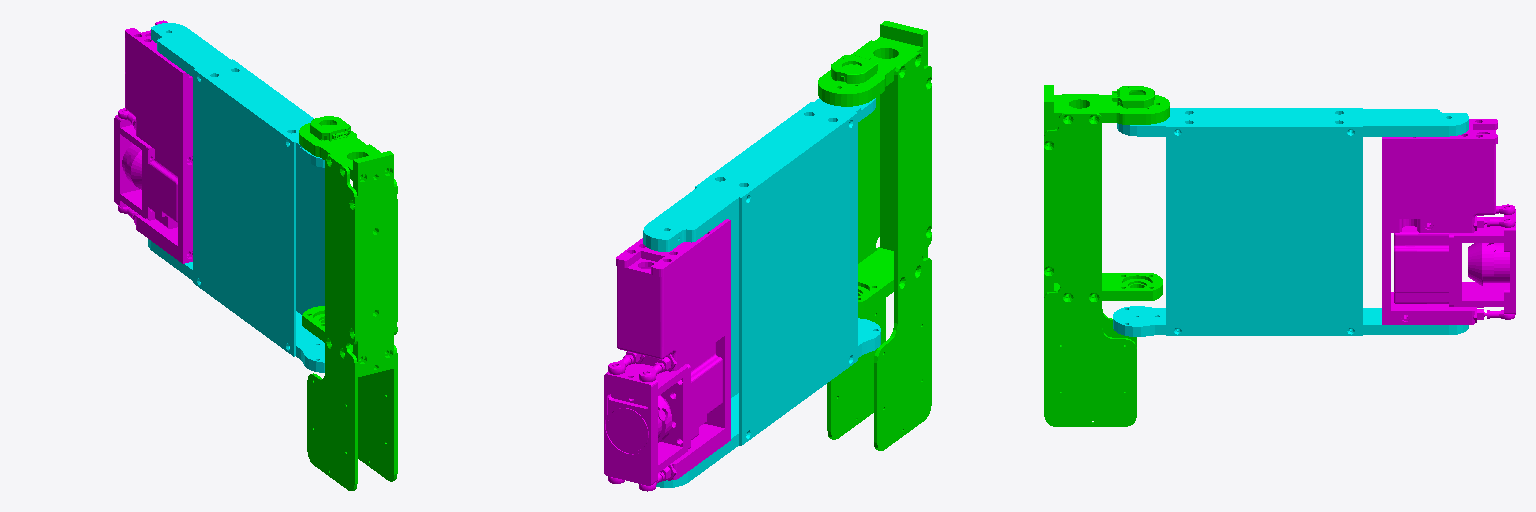
URDF robot description (hand):
<?xml version="1.0" ?>
<robot name="hand">

  <!-- ============ hand_link_base (root) ============ -->
  <link name="hand_link_base">
    <inertial>
      <origin xyz="1.3401999999999999E-06 31.313 -28.611" rpy="0 0 0"/>
      <mass value="0.58902"/>
      <inertia ixx="0.0028073" ixy="-2.209E-12" ixz="1.4526E-11" iyy="0.0026158" iyz="0.00013375" izz="0.00026433"/>
    </inertial>
    <visual>
      <origin xyz="0 0 0" rpy="0 0 0"/>
      <geometry>
        <mesh filename="Hand\meshes/visual/hand_link_base.STL"/>
      </geometry>
      <material name="">
        <color rgba="0 1 0 1"/>
      </material>
    </visual>
    <collision>
      <origin xyz="0 0 0" rpy="0 0 0"/>
      <geometry>
        <mesh filename="Hand\meshes/collision/hand_link_base.STL"/>
      </geometry>
    </collision>
  </link>

  <!-- ============ hand_link_1 ============ -->
  <link name="hand_link_1">
    <inertial>
      <origin xyz="0.078245 123.00999999999999 -17.902" rpy="0 0 0"/>
      <mass value="0.9156"/>
      <inertia ixx="0.0061229" ixy="-3.976E-06" ixz="-8.986E-08" iyy="0.0012773" iyz="-1.541E-06" izz="0.0049578"/>
    </inertial>
    <visual>
      <origin xyz="0 0 0" rpy="0 0 0"/>
      <geometry>
        <mesh filename="Hand\meshes/visual/hand_link_1.STL"/>
      </geometry>
      <material name="">
        <color rgba="0 1 1 1"/>
      </material>
    </visual>
    <collision>
      <origin xyz="0 0 0" rpy="0 0 0"/>
      <geometry>
        <mesh filename="Hand\meshes/collision/hand_link_1.STL"/>
      </geometry>
    </collision>
  </link>

  <joint name="hand_link_base_to_hand_link_1" type="revolute">
    <origin xyz="0 80.5 0" rpy="0 0 0"/>
    <parent link="hand_link_base"/>
    <child link="hand_link_1"/>
    <axis xyz="0 0 1"/>
    <limit lower="-1.5707" upper="1.5707" effort="0" velocity="0"/>
  </joint>

  <!-- ============ hand_link_2 ============ -->
  <link name="hand_link_2">
    <inertial>
      <origin xyz="-0.20099 -17.898 -22.892" rpy="0 0 0"/>
      <mass value="0.51508"/>
      <inertia ixx="0.00066677" ixy="-1.2886E-06" ixz="2.8391E-07" iyy="0.00054582" iyz="2.8064E-06" izz="0.00026757"/>
    </inertial>
    <visual>
      <origin xyz="0 0 0" rpy="0 0 0"/>
      <geometry>
        <mesh filename="Hand\meshes/visual/hand_link_2.STL"/>
      </geometry>
      <material name="">
        <color rgba="1 0 1 1"/>
      </material>
    </visual>
    <collision>
      <origin xyz="0 0 0" rpy="0 0 0"/>
      <geometry>
        <mesh filename="Hand\meshes/collision/hand_link_2.STL"/>
      </geometry>
    </collision>
  </link>

  <joint name="hand_link_1_to_hand_link_2" type="revolute">
    <origin xyz="0 270 0" rpy="0 0 0"/>
    <parent link="hand_link_1"/>
    <child link="hand_link_2"/>
    <axis xyz="0 0 1"/>
    <limit lower="-1.5707" upper="1.5707" effort="0" velocity="0"/>
  </joint>

  <!-- ============ tool_rotate ============ -->
  <link name="tool_rotate">
    <inertial>
      <origin xyz="-0.47146 66.03699999999999 1.2923" rpy="0 0 0"/>
      <mass value="0.013164"/>
      <inertia ixx="1.5074E-06" ixy="4.0748E-08" ixz="-5.9309E-08" iyy="2.5506E-06" iyz="-1.1169E-07" izz="1.6484E-06"/>
    </inertial>
    <visual>
      <origin xyz="0 0 0" rpy="0 0 0"/>
      <geometry>
        <mesh filename="Hand\meshes/visual/tool_rotate.STL"/>
      </geometry>
      <material name="">
        <color rgba="1 0 1 1"/>
      </material>
    </visual>
    <collision>
      <origin xyz="0 0 0" rpy="0 0 0"/>
      <geometry>
        <mesh filename="Hand\meshes/collision/tool_rotate.STL"/>
      </geometry>
    </collision>
  </link>

  <joint name="hand_link_2_to_tool_rotate" type="revolute">
    <origin xyz="0 -40.958 -55.129" rpy="0 0 0"/>
    <parent link="hand_link_2"/>
    <child link="tool_rotate"/>
    <axis xyz="0 1 0"/>
    <limit lower="-6.2831" upper="6.2831" effort="0" velocity="0"/>
  </joint>

  <!-- ============ tool_0 ============ -->
  <link name="tool_0">
    <inertial>
      <origin xyz="-0.018167 -24.185000000000002 0.049811999999999995" rpy="0 0 0"/>
      <mass value="0.028269"/>
      <inertia ixx="4.0894E-06" ixy="-2.9751E-09" ixz="-2.5563E-11" iyy="4.5453E-06" iyz="8.1573E-09" izz="4.0894E-06"/>
    </inertial>
    <visual>
      <origin xyz="0 0 0" rpy="0 0 0"/>
      <geometry>
        <mesh filename="Hand\meshes/visual/tool_0.STL"/>
      </geometry>
      <material name="">
        <color rgba="1 0 1 1"/>
      </material>
    </visual>
    <collision>
      <origin xyz="0 0 0" rpy="0 0 0"/>
      <geometry>
        <mesh filename="Hand\meshes/collision/tool_0.STL"/>
      </geometry>
    </collision>
  </link>

  <joint name="tool_rotate_to_tool_0" type="fixed">
    <origin xyz="0 107.96 0" rpy="0 0 0"/>
    <parent link="tool_rotate"/>
    <child link="tool_0"/>
    <axis xyz="0 0 0"/>
  </joint>

  <!-- ============ laser_link ============ -->
  <link name="laser_link">
    <inertial>
      <origin xyz="0 0 0" rpy="0 0 0"/>
      <mass value="0"/>
      <inertia ixx="0" ixy="0" ixz="0" iyy="0" iyz="0" izz="0"/>
    </inertial>
    <visual>
      <origin xyz="0 0 0" rpy="0 0 0"/>
      <geometry>
        <mesh filename="Hand\meshes/visual/laser_link.STL"/>
      </geometry>
      <material name="">
        <color rgba="0 1 0 1"/>
      </material>
    </visual>
    <collision>
      <origin xyz="0 0 0" rpy="0 0 0"/>
      <geometry>
        <mesh filename="Hand\meshes/collision/laser_link.STL"/>
      </geometry>
    </collision>
  </link>

  <joint name="hand_link_base_to_laser_link" type="fixed">
    <origin xyz="0 358 -146.14" rpy="0 0 0"/>
    <parent link="hand_link_base"/>
    <child link="laser_link"/>
    <axis xyz="0 0 0"/>
  </joint>

</robot>

--- What the picture shows (computed from the rendered views, not written in the file) ---
3 views of the same robot in one strip: view 1: azimuth 30°, elevation 25°; view 2: azimuth 150°, elevation 25°; view 3: azimuth 270°, elevation 25° (orthographic).
Model hand with 6 links and 5 joints (3 revolute, 2 fixed), rooted at hand_link_base, posed all joints at 0.
Visible links, largest first — view 1: hand_link_1, hand_link_base, hand_link_2, laser_link, tool_rotate; view 2: hand_link_1, hand_link_base, hand_link_2, tool_0, laser_link; view 3: hand_link_1, hand_link_base, hand_link_2, tool_rotate, laser_link, tool_0.
Link boxes in pixels (box(x1,y1,x2,y2)): hand_link_1: box(148, 23, 324, 372); hand_link_base: box(299, 123, 397, 490); hand_link_2: box(114, 20, 192, 263); laser_link: box(310, 116, 350, 141); tool_rotate: box(125, 146, 141, 189); hand_link_1: box(643, 98, 880, 487); hand_link_base: box(818, 21, 931, 450); hand_link_2: box(604, 219, 730, 491); tool_0: box(608, 408, 665, 450); laser_link: box(831, 54, 877, 83); hand_link_1: box(1113, 108, 1468, 336); hand_link_base: box(1044, 85, 1169, 426); hand_link_2: box(1382, 119, 1515, 324); tool_rotate: box(1468, 243, 1493, 285); laser_link: box(1112, 86, 1154, 107); tool_0: box(1483, 243, 1509, 282).
Size in the robot's own frame: 42.43 by 408 by 309 metres.
6 mesh visuals loaded from 6 distinct referenced files (6 binary STL).
